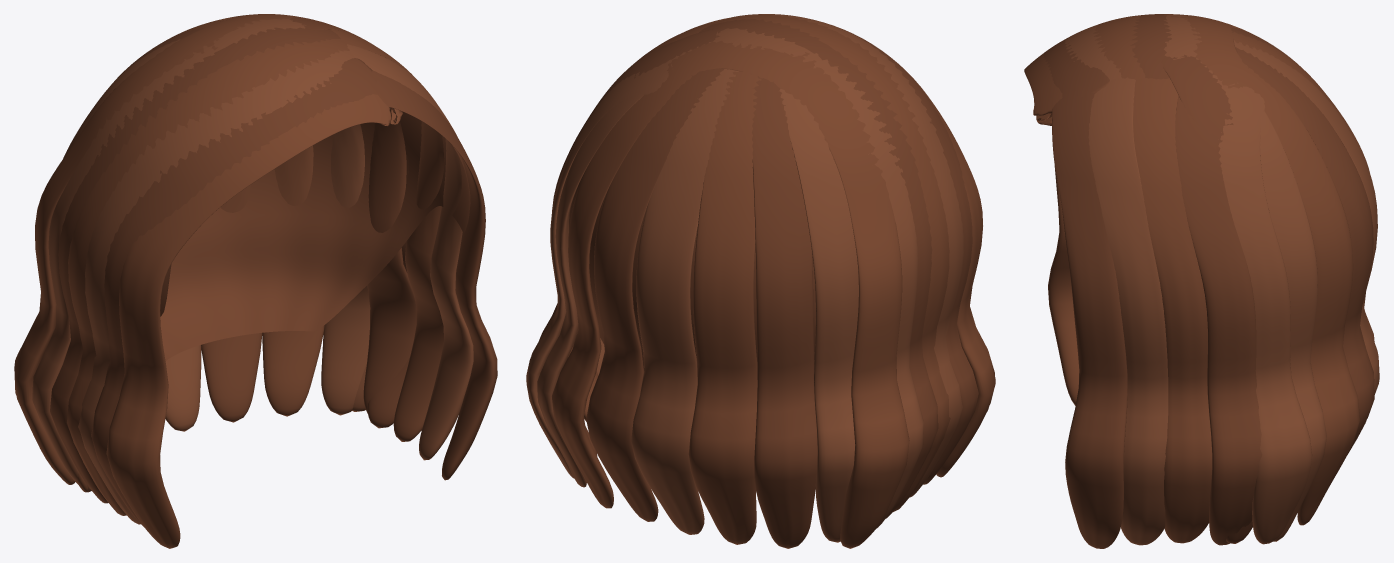
File: straight-bucket-default.glb
The picture shows the model from 3 angles, left to right: view 1: azimuth 30°, elevation 25°; view 2: azimuth 150°, elevation 25°; view 3: azimuth 270°, elevation 25°; orthographic projection. The views are drawn at different scales.
Parts seen in each view (by area): view 1: 226 hair / Hair / sculpted 0.001, 226 hair / Hair / sculpted 1.002, 226 hair / Hair / sculpted 2.001, 226 hair / Hair / sculpted 1.001; view 2: 226 hair / Hair / sculpted 0.001, 226 hair / Hair / sculpted 2.001, 226 hair / Hair / sculpted 1.002, 226 hair / Hair / sculpted 1.001; view 3: 226 hair / Hair / sculpted 1.002, 226 hair / Hair / sculpted 2.001, 226 hair / Hair / sculpted 0.001.
Part boxes in pixels (x1=…): 226 hair / Hair / sculpted 0.001: x1=14, y1=14, x2=444, y2=548; 226 hair / Hair / sculpted 1.002: x1=50, y1=14, x2=497, y2=526; 226 hair / Hair / sculpted 2.001: x1=32, y1=16, x2=473, y2=524; 226 hair / Hair / sculpted 1.001: x1=160, y1=112, x2=470, y2=360; 226 hair / Hair / sculpted 0.001: x1=552, y1=15, x2=995, y2=548; 226 hair / Hair / sculpted 2.001: x1=526, y1=14, x2=963, y2=542; 226 hair / Hair / sculpted 1.002: x1=539, y1=14, x2=978, y2=548; 226 hair / Hair / sculpted 1.001: x1=569, y1=175, x2=815, y2=370; 226 hair / Hair / sculpted 1.002: x1=1043, y1=14, x2=1374, y2=548; 226 hair / Hair / sculpted 2.001: x1=1065, y1=14, x2=1379, y2=545; 226 hair / Hair / sculpted 0.001: x1=1024, y1=14, x2=1374, y2=543.
Size of the model in its own units: 0.8562 by 0.9504 by 0.6819.
